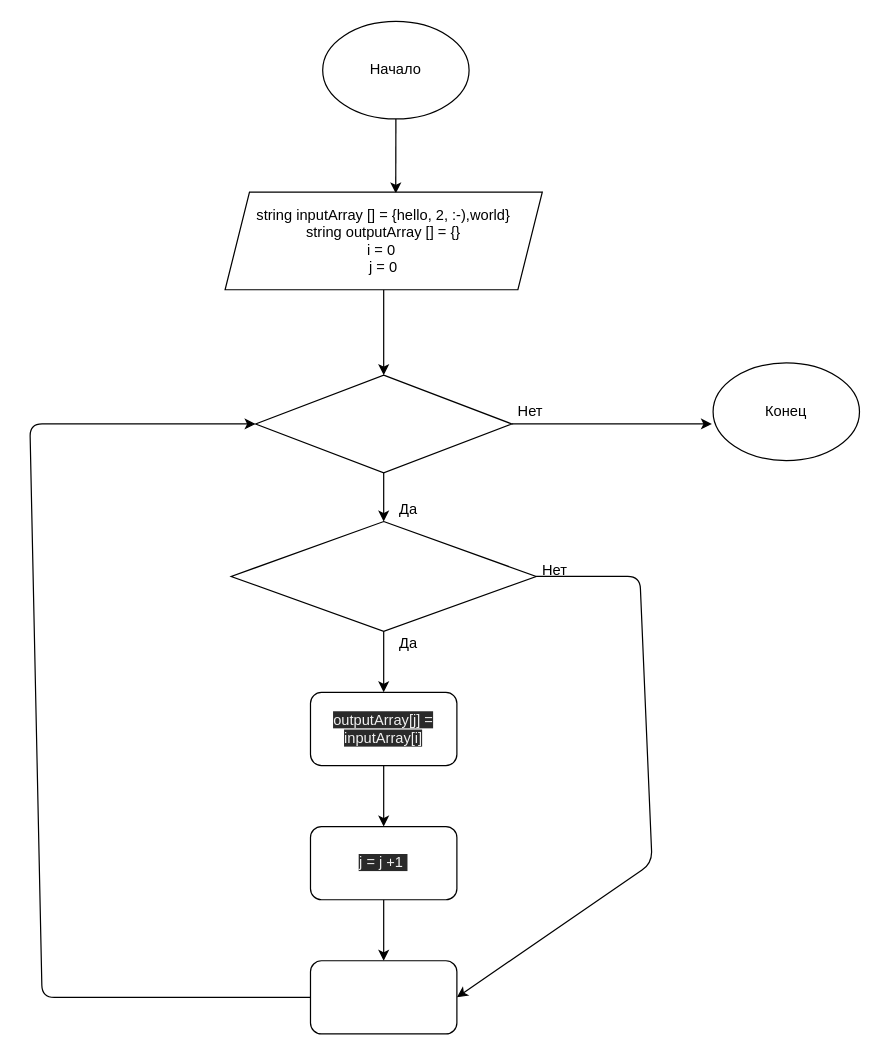
Some shapes in this 881 by 1055 pixel diagram are drawn without their labels. The shapes that lost their labels are listed below. From the top down, each one's box as (x1, y1, x2, y2) in pixels, then its label:
(254, 374, 512, 473): i < inputArray.Length
(230, 520, 536, 631): inputArray [i] .Length <= 3
(309, 960, 457, 1034): i = i +1
